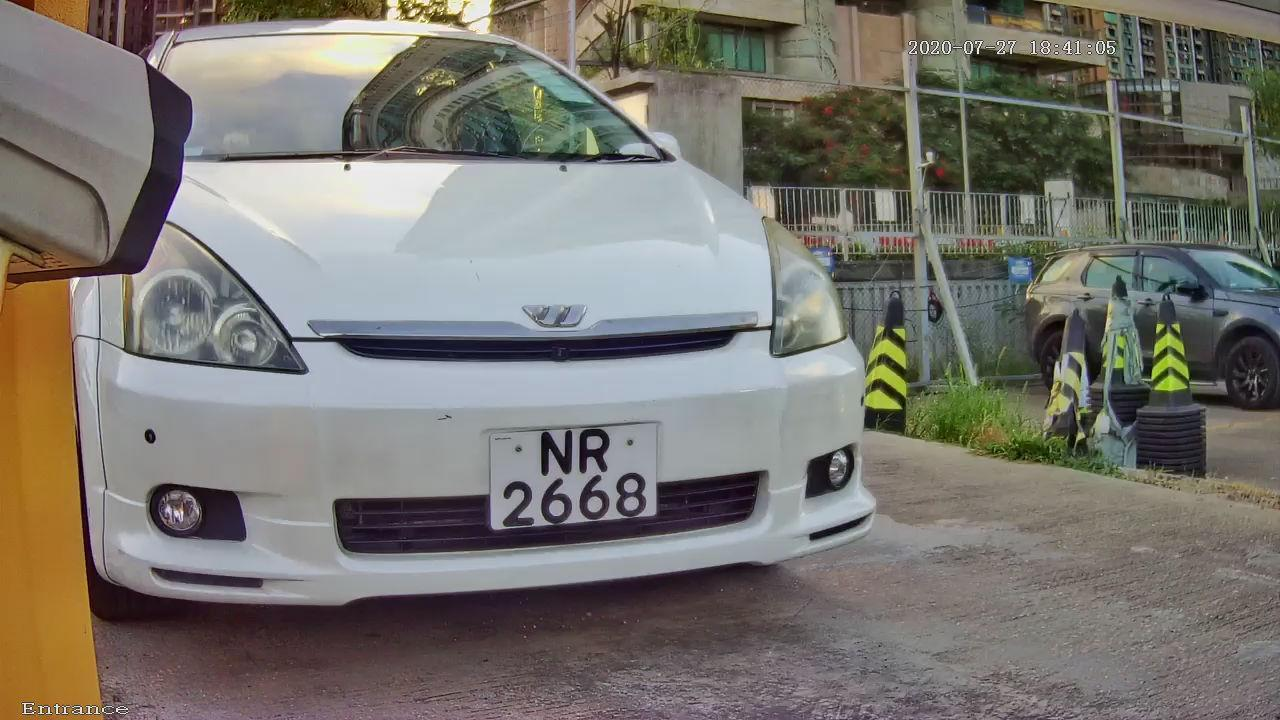privatecar: (58, 10, 949, 653)
